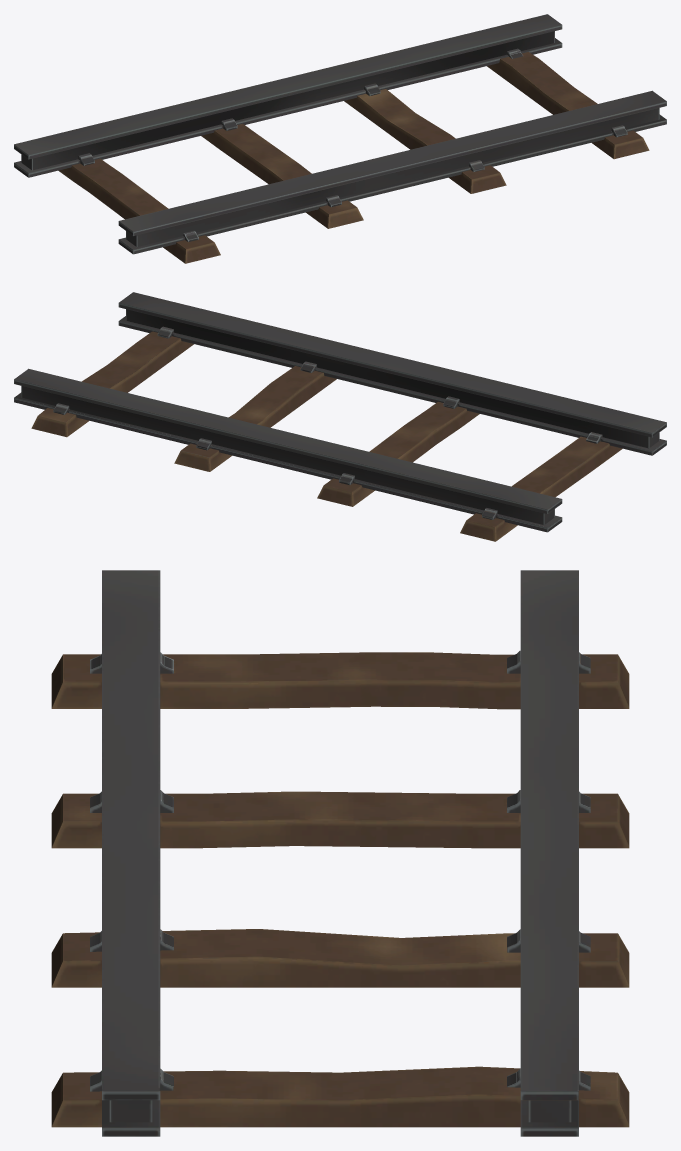
Rendered from SM_Rail.glb.
The picture shows the model from 3 angles, top to bottom: view 1: azimuth 30°, elevation 25°; view 2: azimuth 150°, elevation 25°; view 3: azimuth 270°, elevation 25°; orthographic projection. The views are drawn at different scales.
Visible parts, largest first — view 1: SM_Rail; view 2: SM_Rail; view 3: SM_Rail.
Boxes of the visible parts, x1,y1,x2,y2 form: SM_Rail: [14, 14, 666, 263]; SM_Rail: [14, 292, 666, 541]; SM_Rail: [51, 570, 629, 1136].
Bounding box in the file's own units: 3 × 0.1757 × 1.41.
1 material, 1 textured.
